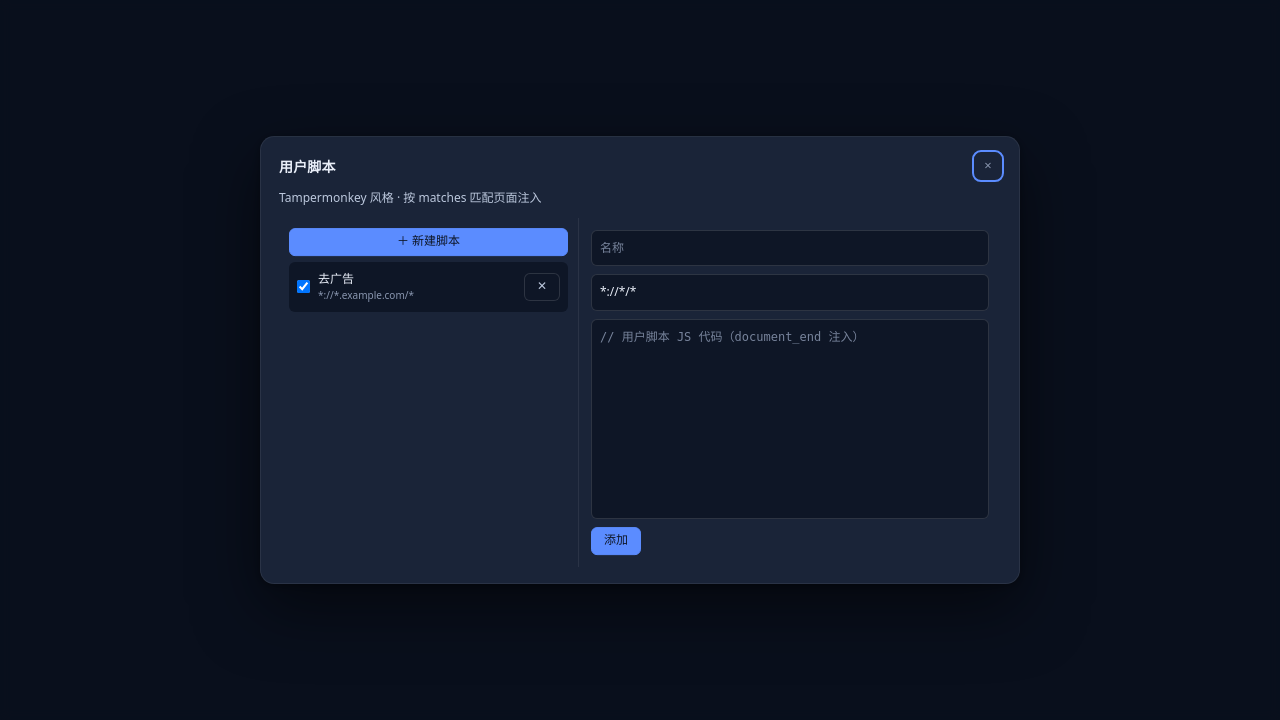
UserscriptsDialog · 编辑 / 启用 / 删除 › 删除：delete_userscript + 重拉；删正在编辑的 → 表单重置
Click the element with class "us-meta".
click(366, 286)  # box [318,270,414,302]
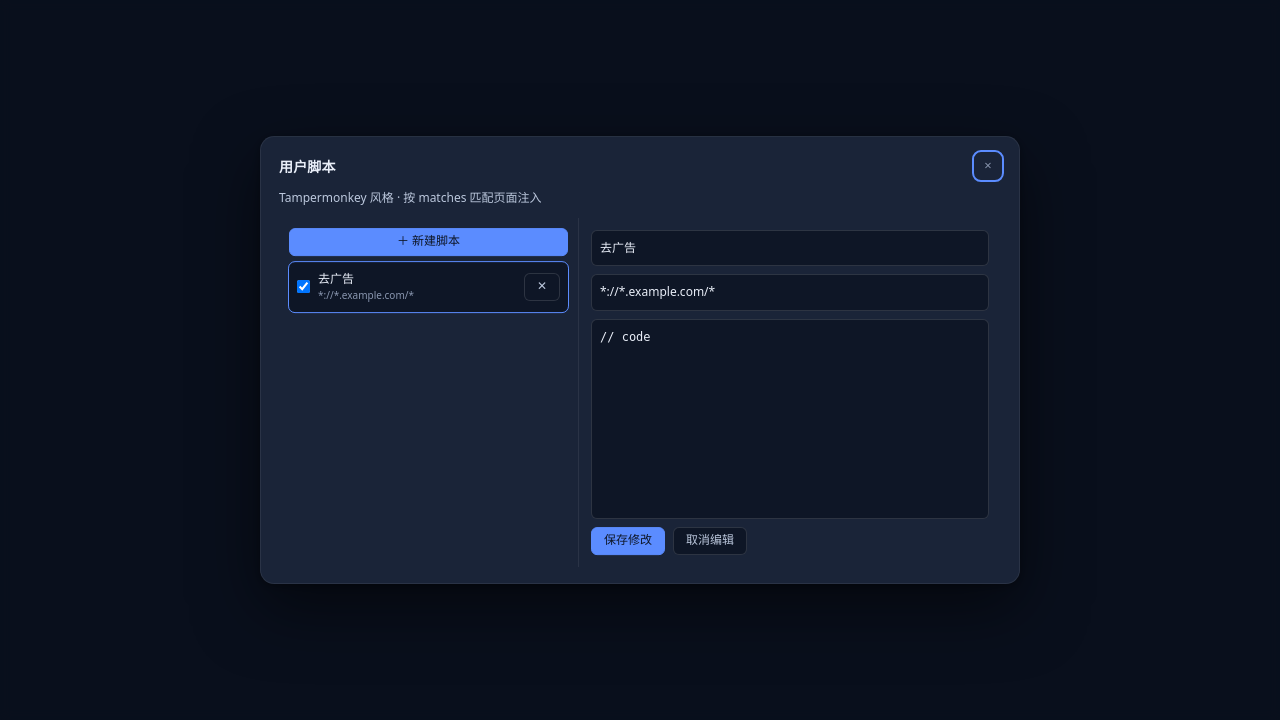
Click the button with class "danger".
click(542, 287)  # box [524,273,560,301]
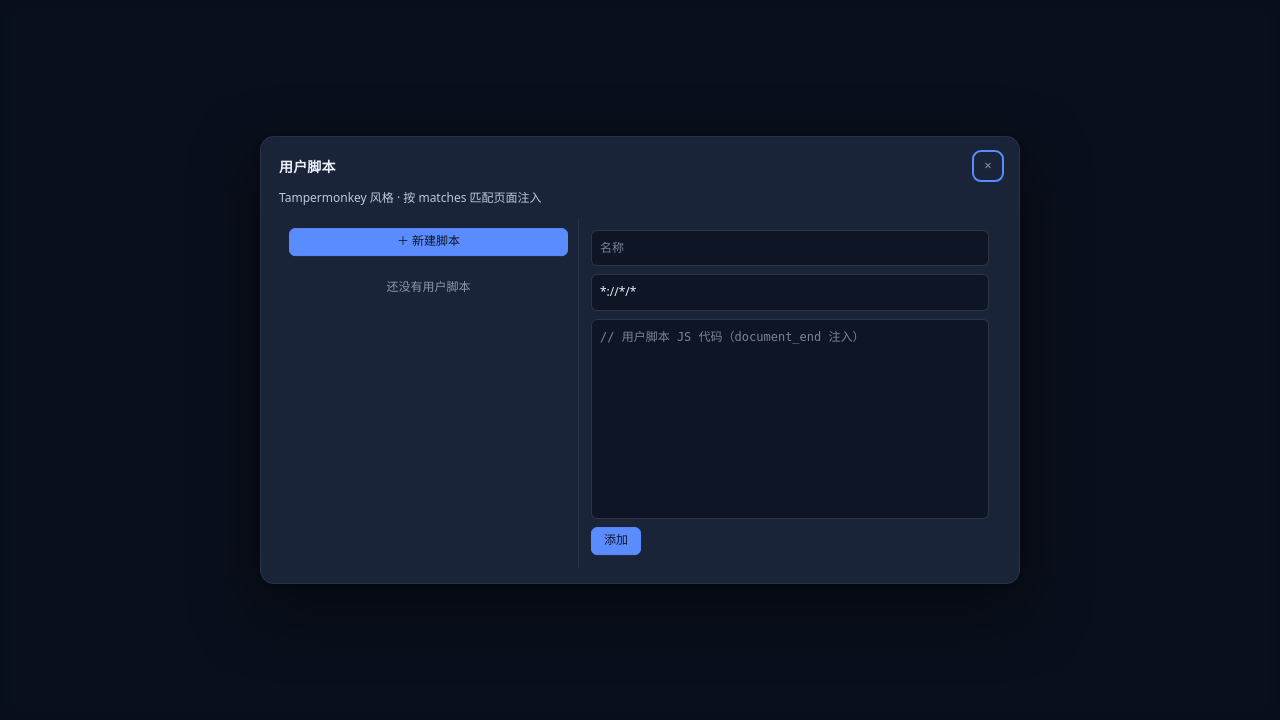
Result: the field with class "us-input" is empty at [591,230,989,266]
